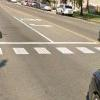Crosswalk: (11, 36, 100, 61)
